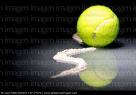tennis ball: (75, 3, 120, 48)
